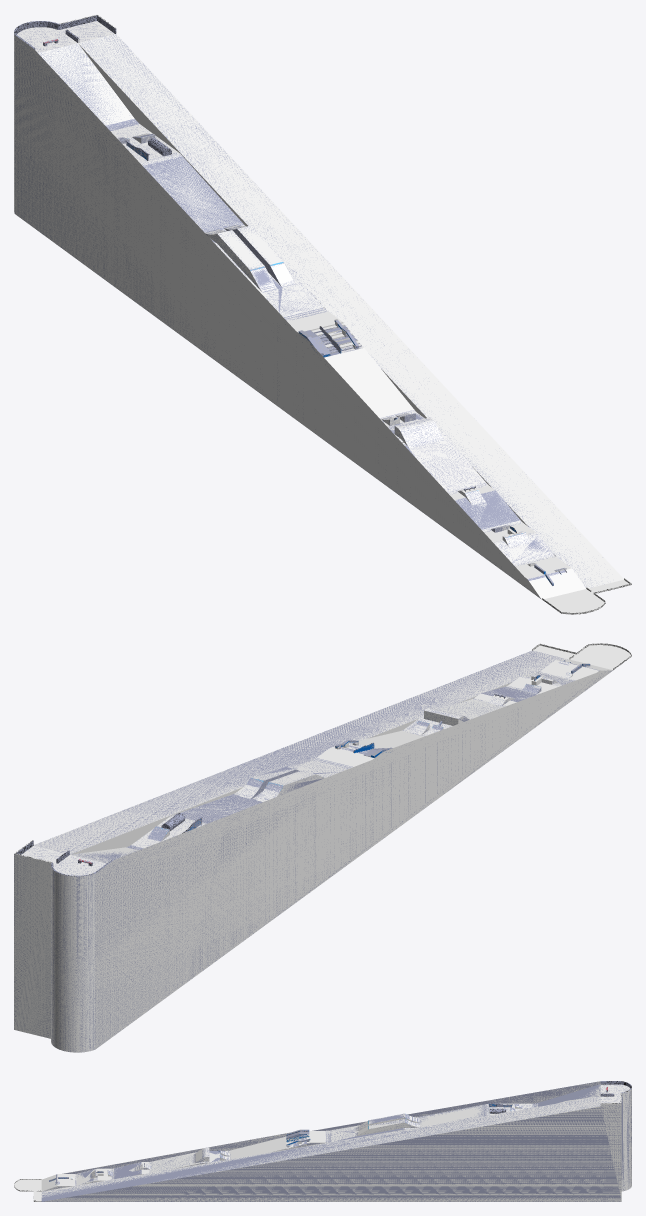
File: slopestyle_park_run.fbx
3 renders of one model, top to bottom at view 1: azimuth 30°, elevation 25°; view 2: azimuth 150°, elevation 25°; view 3: azimuth 270°, elevation 25°, orthographic. The views are drawn at different scales.
Parts seen in each view (by area): view 1: Model; view 2: Model; view 3: Model.
Boxes of the visible parts, x1,y1,x2,y2 form: Model: [14, 14, 631, 614]; Model: [14, 643, 631, 1052]; Model: [14, 1081, 631, 1201].
Size of the model in its own units: 56.15 by 116 by 660.
